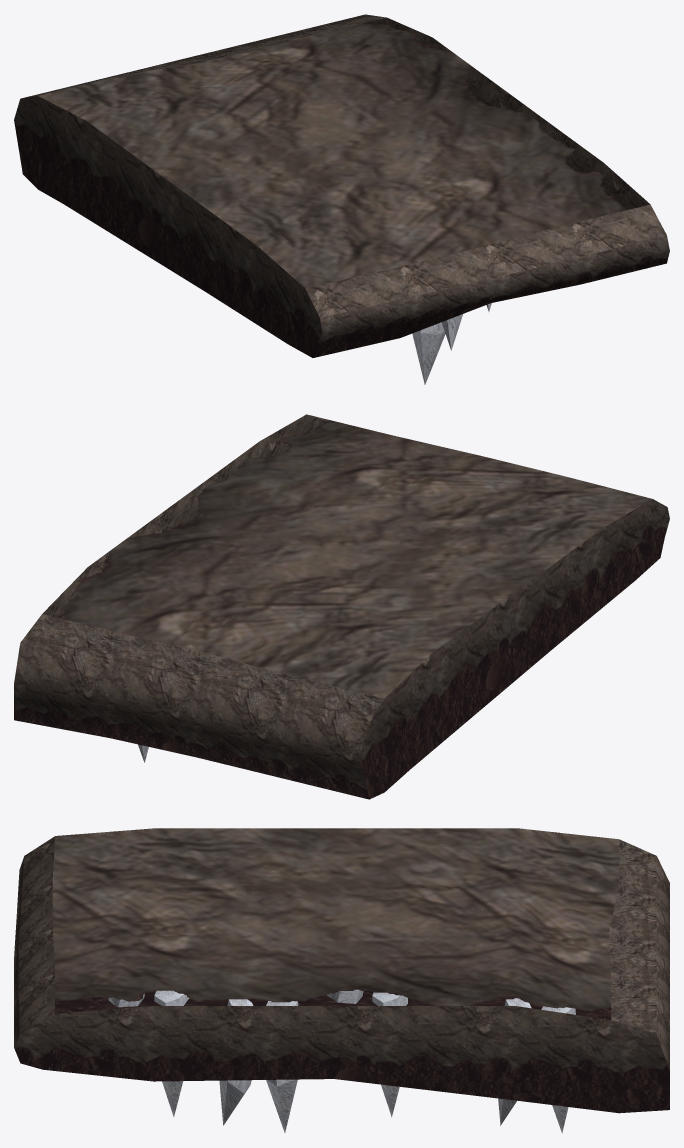
Rendered from LampLight_3DAsset_Platform1.FBX.
3 renders of one model, top to bottom at view 1: azimuth 30°, elevation 25°; view 2: azimuth 150°, elevation 25°; view 3: azimuth 270°, elevation 25°, orthographic. The views are drawn at different scales.
Parts seen in each view (by area): view 1: platform003, Crystal015; view 2: platform003; view 3: platform003, Crystal012, Crystal011, Crystal015, Crystal014, Crystal2.
Part boxes in pixels (bbox=[...]): platform003: bbox=[14, 14, 669, 357]; Crystal015: bbox=[412, 322, 445, 384]; platform003: bbox=[14, 414, 669, 799]; platform003: bbox=[14, 828, 669, 1113]; Crystal012: bbox=[266, 1001, 298, 1132]; Crystal011: bbox=[219, 999, 253, 1125]; Crystal015: bbox=[154, 990, 189, 1116]; Crystal014: bbox=[372, 992, 407, 1117]; Crystal2: bbox=[498, 998, 531, 1125].
Bounding box in the file's own units: 36.18 × 18.88 × 56.45.
